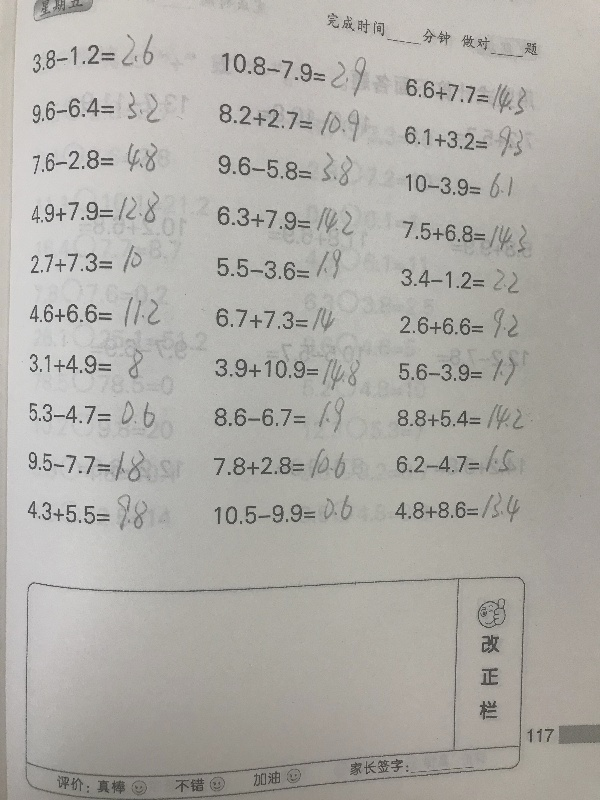equation: (218, 50, 370, 98), (209, 352, 369, 397), (399, 71, 538, 121), (27, 85, 165, 133), (211, 396, 357, 441), (385, 306, 532, 348), (387, 349, 534, 391), (21, 446, 153, 490), (21, 492, 153, 536), (401, 120, 534, 163), (29, 138, 166, 179), (215, 103, 362, 141), (214, 145, 356, 184), (399, 219, 536, 259), (28, 188, 164, 227), (25, 345, 156, 385), (25, 296, 163, 333), (27, 33, 157, 72), (211, 446, 350, 482), (213, 245, 344, 283), (393, 442, 530, 478), (391, 487, 523, 524), (213, 200, 357, 233), (394, 401, 537, 434), (210, 494, 355, 526), (25, 395, 159, 428), (26, 246, 145, 279), (212, 303, 338, 334), (397, 265, 522, 296), (401, 168, 515, 200)
